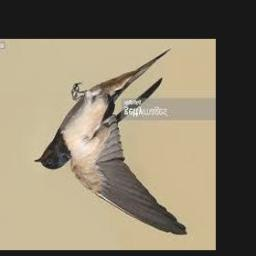Swallow: (33, 49, 187, 235)
